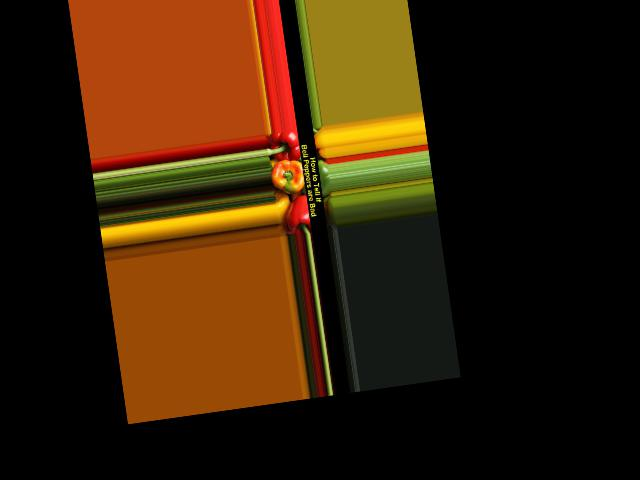bell_pepper: (265, 130, 303, 165)
